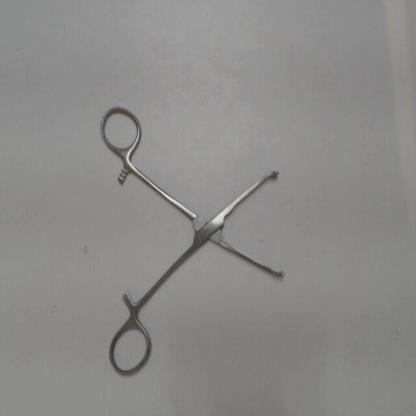Allis Tissue Forceps: (95, 102, 290, 380)
